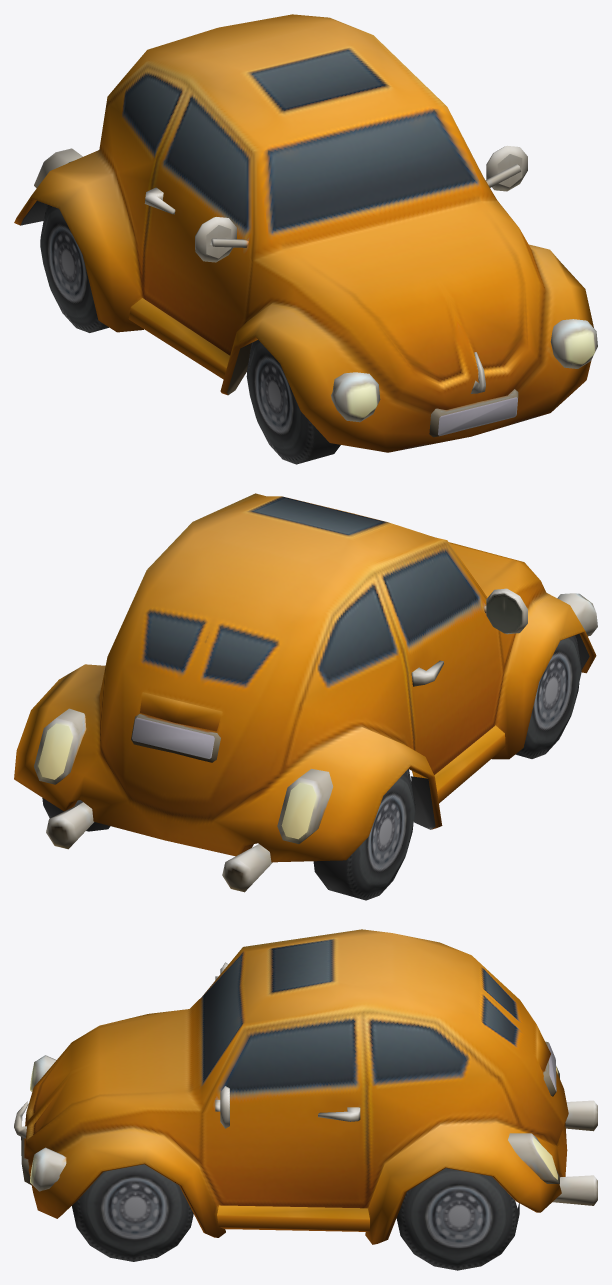
The model's file is jiaoche.FBX.
3 views of the same model, one above another, from view 1: azimuth 30°, elevation 25°; view 2: azimuth 150°, elevation 25°; view 3: azimuth 270°, elevation 25° (orthographic). The views are drawn at different scales.
Parts seen in each view (by area): view 1: Car_1A; view 2: Car_1A; view 3: Car_1A.
Part boxes in pixels (left/top/right/bottom): Car_1A: left=14, top=14, right=597, bottom=464; Car_1A: left=14, top=493, right=597, bottom=900; Car_1A: left=14, top=929, right=597, bottom=1270.
Size of the model in its own units: 213 by 164 by 352.
Materials: 1 (1 with a texture image).
